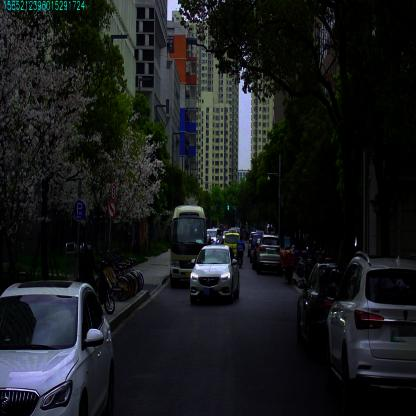traffic-light: (227, 203, 229, 210)
